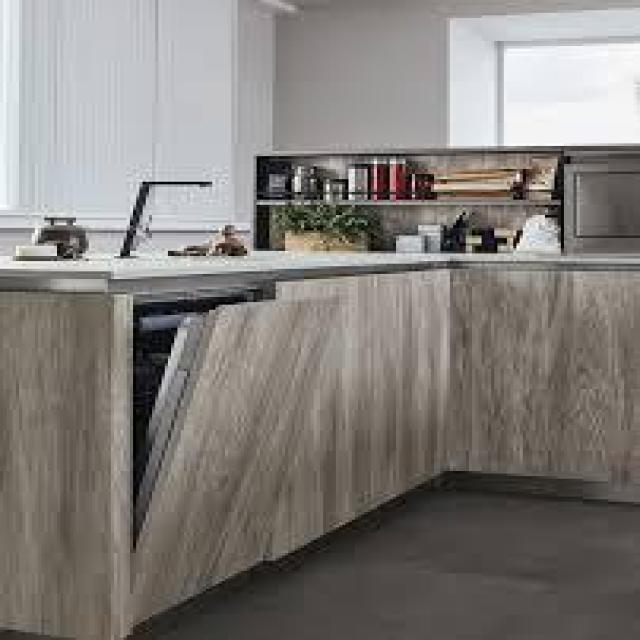dishwasher: (124, 261, 361, 617)
